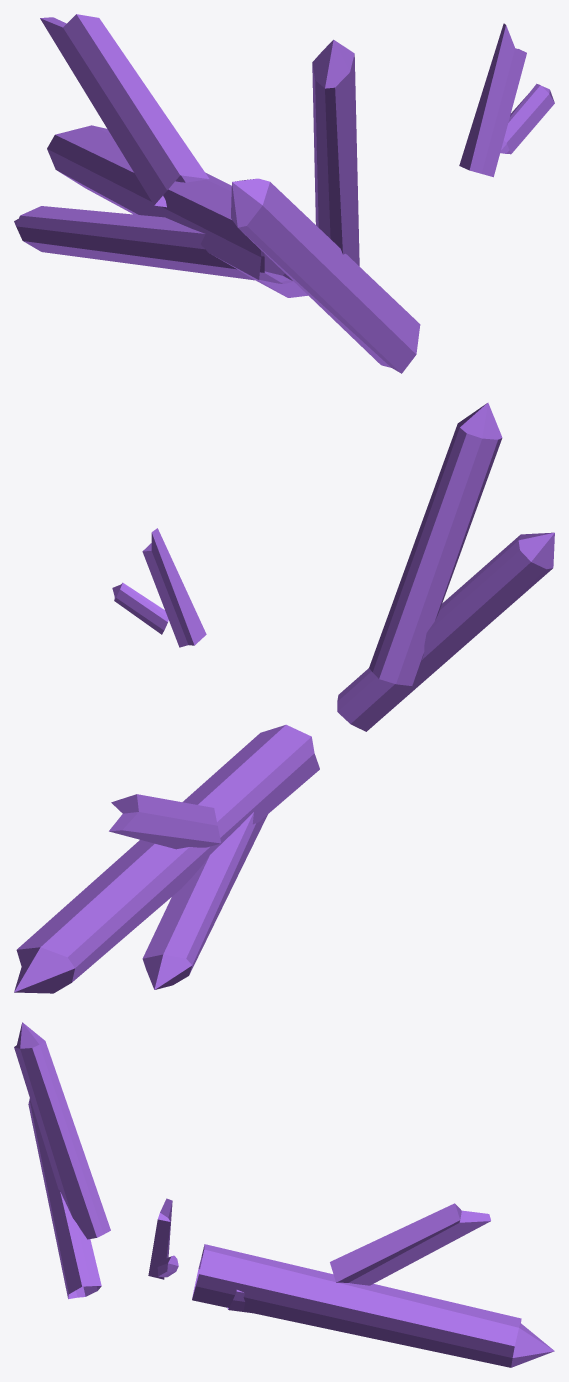
File: amethyst.glb
3 views of the same model, one above another, from view 1: azimuth 30°, elevation 25°; view 2: azimuth 150°, elevation 25°; view 3: azimuth 270°, elevation 25° (orthographic). The views are drawn at different scales.
Visible parts, largest first — view 1: stone-03CrystalsLOD0; view 2: stone-03CrystalsLOD0; view 3: stone-03CrystalsLOD0.
Boxes of the visible parts, x1,y1,x2,y2 form: stone-03CrystalsLOD0: [14, 14, 554, 373]; stone-03CrystalsLOD0: [14, 402, 554, 993]; stone-03CrystalsLOD0: [14, 1022, 554, 1367].
Size of what is drawn, in the model's own units: 0.9831 by 1.03 by 1.7.
